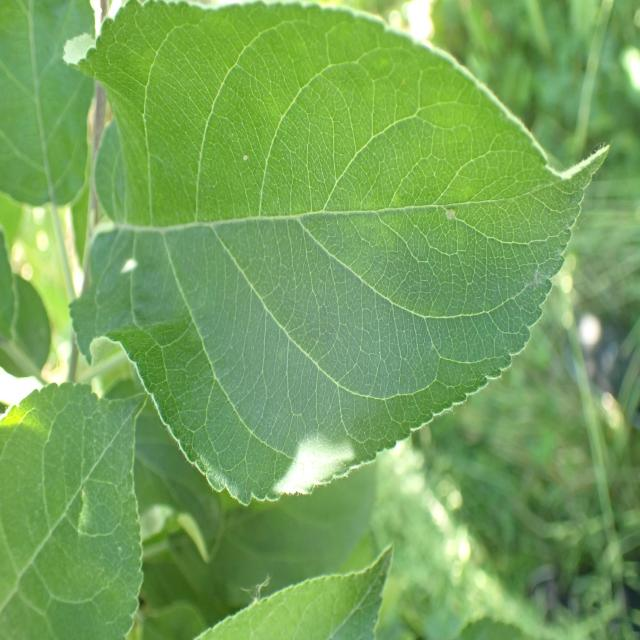healthy: (63, 2, 611, 504), (0, 380, 145, 640), (191, 540, 394, 640), (0, 0, 96, 209)
